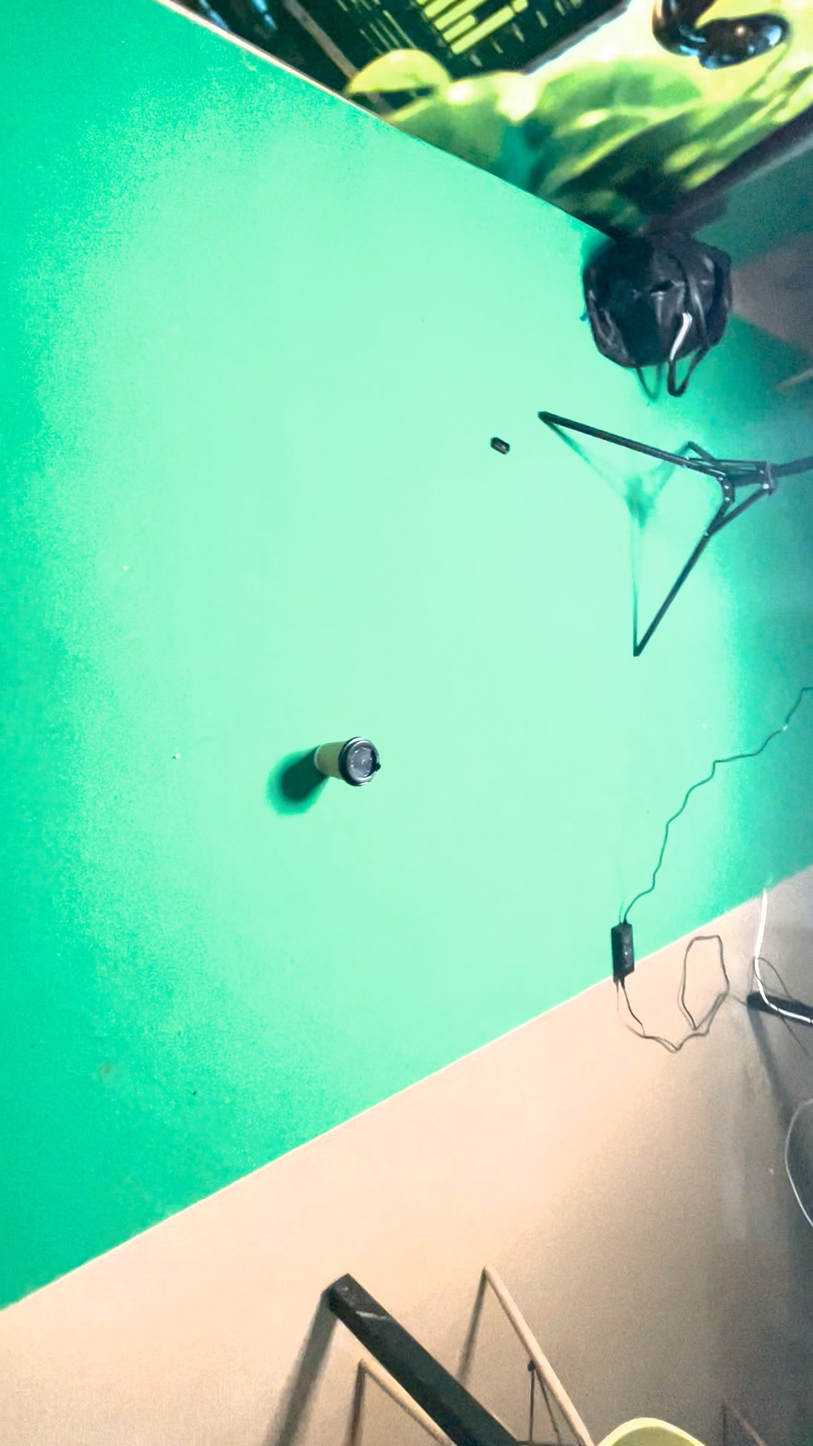cup: (434, 829, 513, 1225)
